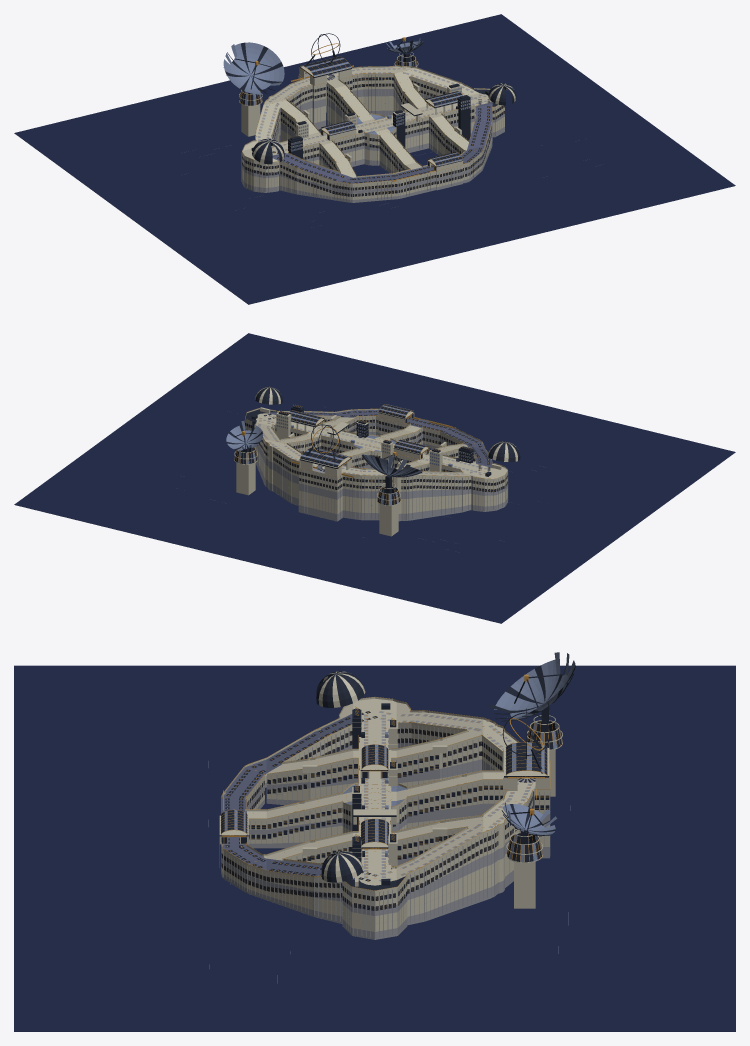
Rendered from parallax-observatory.glb.
3 renders of one model, top to bottom at view 1: azimuth 30°, elevation 25°; view 2: azimuth 150°, elevation 25°; view 3: azimuth 270°, elevation 25°, orthographic. The views are drawn at different scales.
Parts seen in each view (by area): view 1: PARALLAX.sea, PARALLAX.saltstone, PARALLAX.metal, PARALLAX.paving, PARALLAX.mirror, PARALLAX.ochre, PARALLAX.cistern; view 2: PARALLAX.sea, PARALLAX.saltstone, PARALLAX.paving, PARALLAX.metal, PARALLAX.mirror, PARALLAX.ochre, PARALLAX.cistern; view 3: PARALLAX.sea, PARALLAX.saltstone, PARALLAX.metal, PARALLAX.paving, PARALLAX.ochre, PARALLAX.mirror, PARALLAX.cistern.
Boxes of the visible parts, <box> form: PARALLAX.sea: <box>14,14,735,304</box>; PARALLAX.saltstone: <box>239,52,515,199</box>; PARALLAX.metal: <box>223,33,516,196</box>; PARALLAX.paving: <box>241,68,504,202</box>; PARALLAX.mirror: <box>223,38,470,166</box>; PARALLAX.ochre: <box>239,37,504,196</box>; PARALLAX.cistern: <box>272,102,492,183</box>; PARALLAX.sea: <box>14,333,735,623</box>; PARALLAX.saltstone: <box>234,386,517,536</box>; PARALLAX.paving: <box>244,413,508,521</box>; PARALLAX.metal: <box>226,386,520,505</box>; PARALLAX.mirror: <box>226,404,470,505</box>; PARALLAX.ochre: <box>234,404,507,504</box>; PARALLAX.cistern: <box>267,410,492,468</box>; PARALLAX.sea: <box>14,665,735,1031</box>; PARALLAX.saltstone: <box>219,671,562,931</box>; PARALLAX.metal: <box>219,663,575,910</box>; PARALLAX.paving: <box>219,711,550,939</box>; PARALLAX.ochre: <box>220,674,562,909</box>; PARALLAX.mirror: <box>208,652,575,983</box>; PARALLAX.cistern: <box>221,714,359,880</box>.
Bounding box in the file's own units: 480 × 84.25 × 400.
